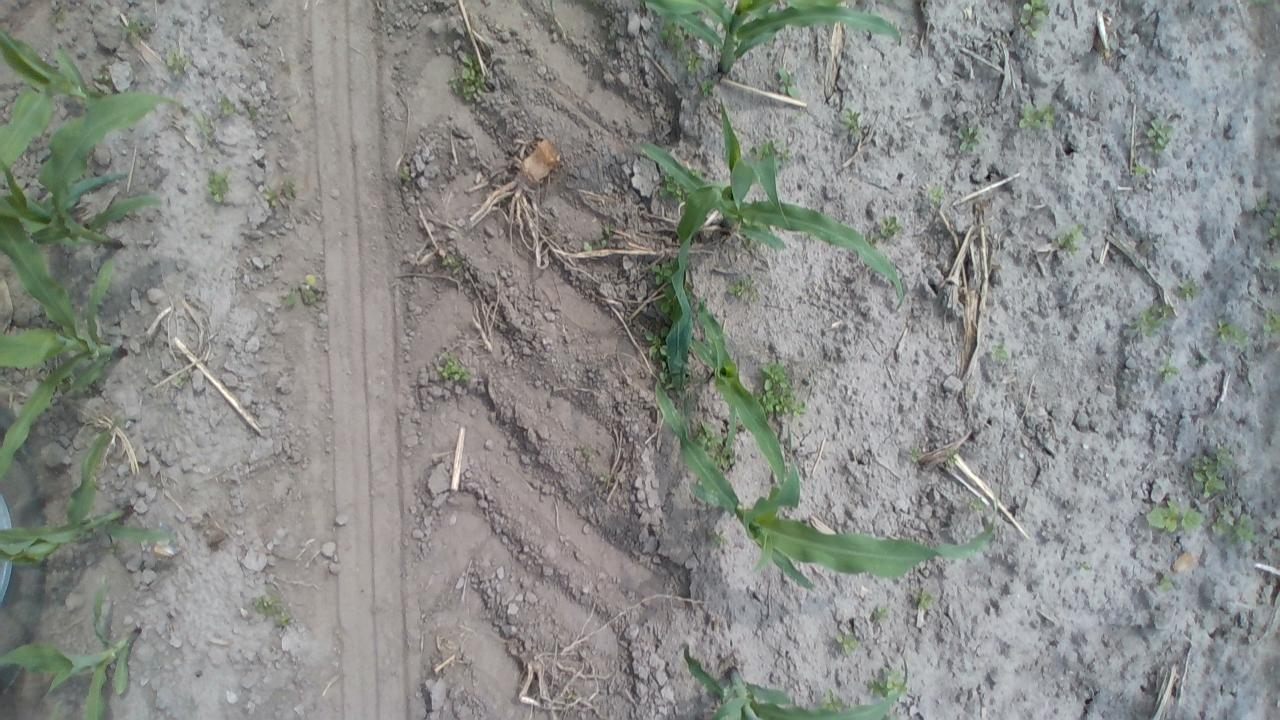Maize: (649, 359, 1006, 586), (635, 102, 907, 332), (0, 211, 131, 479), (667, 267, 790, 514), (2, 416, 178, 564), (1, 576, 146, 718), (0, 29, 109, 214), (650, 0, 905, 79), (678, 656, 914, 718)
Weeds: (756, 358, 809, 420), (1190, 441, 1235, 500), (1144, 500, 1204, 534), (692, 420, 736, 466), (1128, 302, 1178, 341), (450, 56, 486, 101), (253, 592, 293, 630), (1218, 510, 1258, 548), (1016, 100, 1059, 132), (1018, 0, 1052, 39), (285, 272, 320, 308), (1144, 116, 1174, 156), (437, 352, 472, 382), (1213, 315, 1246, 346), (644, 326, 670, 362), (260, 179, 296, 205), (1058, 222, 1088, 253), (866, 674, 904, 698), (659, 172, 688, 202), (958, 122, 983, 156), (651, 258, 679, 288), (164, 49, 193, 77), (728, 278, 761, 302), (872, 216, 902, 242), (839, 104, 863, 136), (654, 287, 680, 316), (208, 172, 232, 203), (660, 23, 686, 51), (776, 68, 800, 98), (834, 630, 860, 657), (660, 364, 684, 392), (120, 19, 156, 37), (819, 688, 848, 710), (680, 50, 704, 74), (912, 588, 936, 611), (1177, 277, 1200, 300), (1154, 572, 1175, 596), (774, 142, 792, 170), (926, 182, 948, 204), (990, 342, 1011, 364), (439, 252, 464, 270), (752, 138, 772, 160), (574, 444, 596, 463), (218, 94, 235, 118), (49, 2, 68, 23), (1157, 360, 1178, 379), (1262, 308, 1276, 336), (198, 114, 215, 137), (870, 604, 891, 622), (699, 77, 717, 98), (1130, 162, 1150, 180), (1254, 194, 1272, 214), (245, 103, 261, 124), (708, 530, 726, 548), (580, 236, 599, 252), (1264, 219, 1276, 244), (172, 370, 188, 388), (967, 496, 986, 510), (944, 450, 960, 466), (397, 165, 412, 182), (564, 690, 580, 705), (108, 542, 125, 556), (908, 447, 922, 463), (1104, 34, 1115, 54), (598, 472, 612, 487), (1250, 0, 1270, 8)
